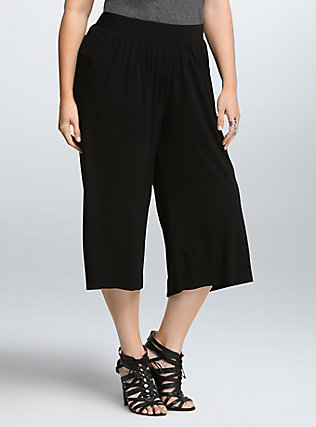C_W_pants: (55, 9, 274, 303)
C_sandals: (103, 330, 213, 419)
